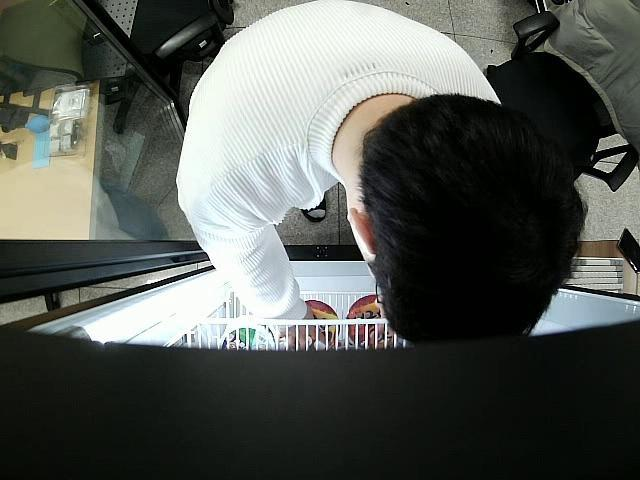05_nuguri_L: (346, 293, 394, 348), (302, 301, 339, 353)
